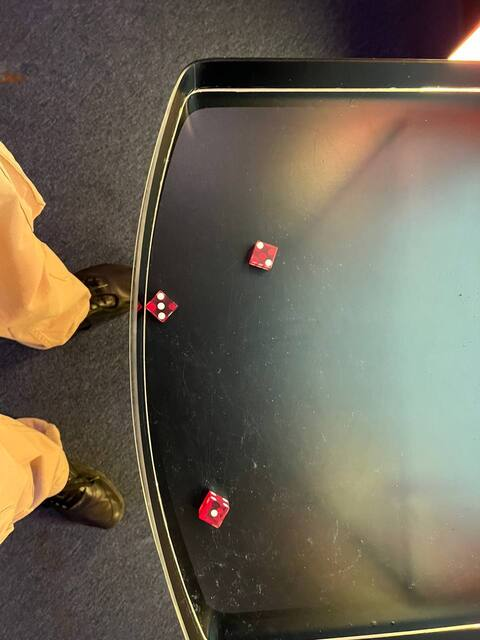one: (196, 499, 229, 530)
three: (144, 288, 179, 322)
two: (246, 237, 279, 272)
